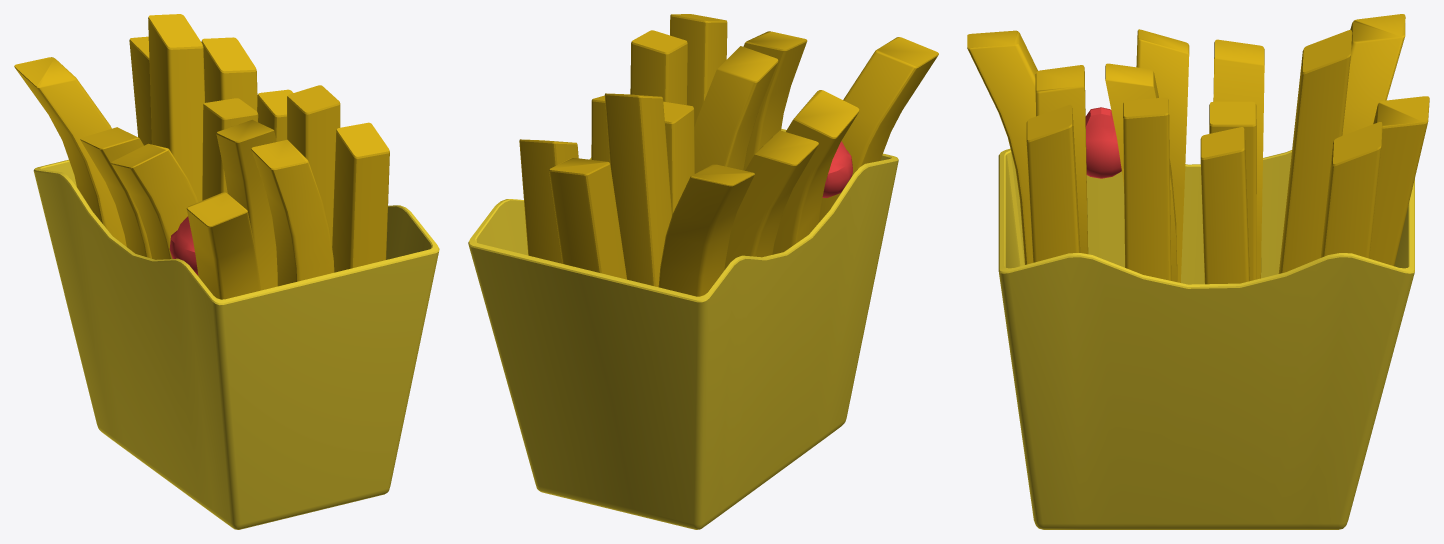
The model's file is potato.fbx.
3 views of the same model, side by side, from view 1: azimuth 30°, elevation 25°; view 2: azimuth 150°, elevation 25°; view 3: azimuth 270°, elevation 25° (orthographic). The views are drawn at different scales.
Visible parts, largest first — view 1: potato; view 2: potato; view 3: potato.
Boxes of the visible parts, bbox=[...] form: potato: bbox=[14, 14, 439, 529]; potato: bbox=[468, 14, 938, 529]; potato: bbox=[967, 14, 1429, 529].
Bounding box in the file's own units: 122 × 188 × 176.
